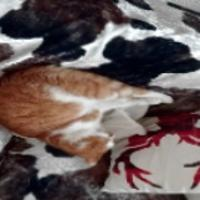asleep: (0, 64, 178, 167)
